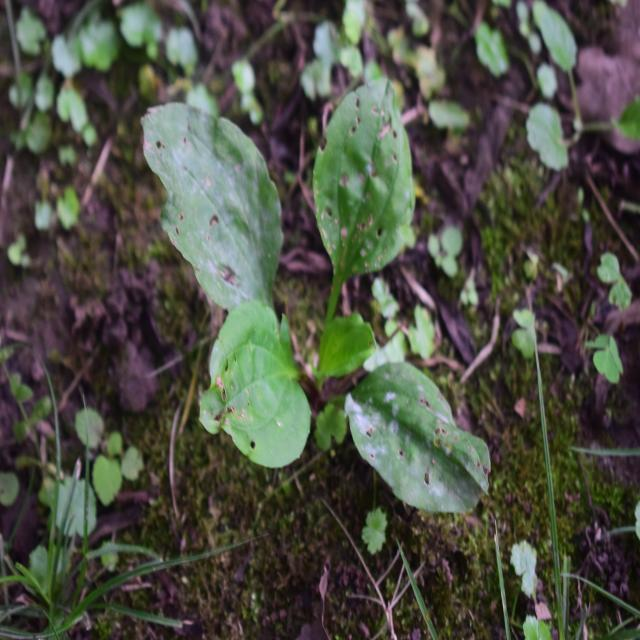plantain: (142, 101, 468, 505)
